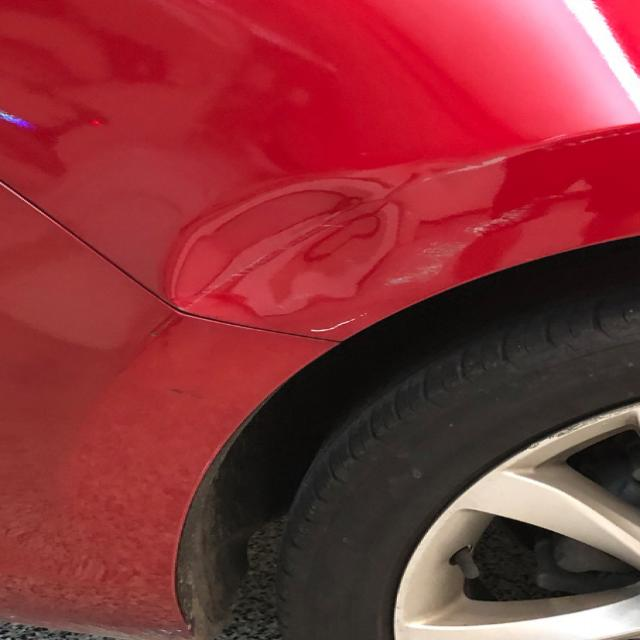dents: (133, 182, 420, 306)
